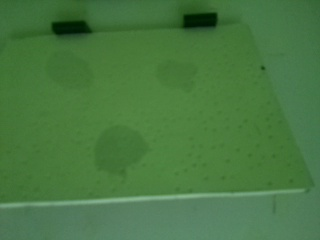Water_detected: (103, 126, 143, 167), (173, 69, 196, 90), (72, 69, 94, 89)
